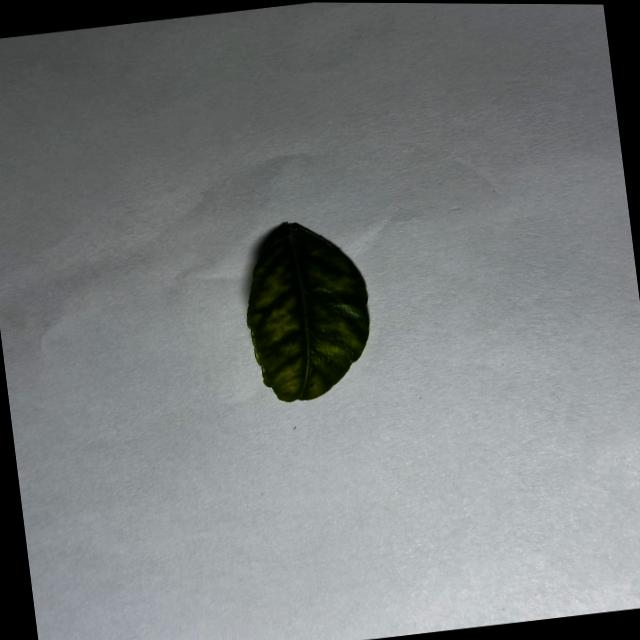greening: (246, 222, 368, 401)
